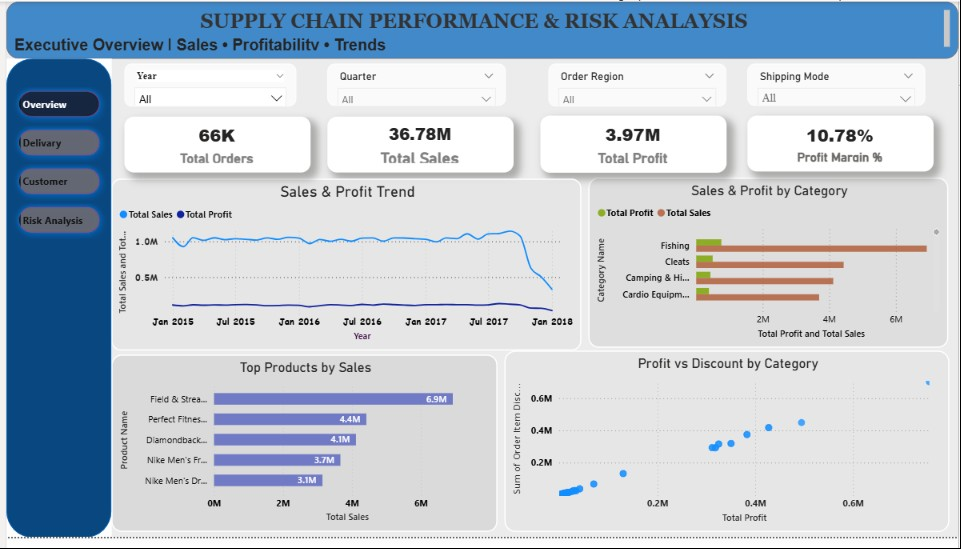

This screenshot's page, from the dashboard's own definition file:
{"tool":"powerbi","page":{"name":"Overview","canvas":[1280,720],"ordinal":0},"visuals":[{"type":"clusteredBarChart","title":"Sales & Profit by Category","fields":{"Category":["DataCoSupplyChainDataset (2).Category Name"],"Y":["DataCoSupplyChainDataset (2).Total Profit","DataCoSupplyChainDataset (2).Total Sales"]},"box":[782.6,237.2,484,229.1],"z":0},{"type":"clusteredBarChart","title":"Top Products by Sales","fields":{"Y":["DataCoSupplyChainDataset (2).Total Sales"],"Category":["DataCoSupplyChainDataset (2).Product Name"]},"box":[141.2,474.7,519.1,238],"z":1000},{"type":"card","fields":{"Values":["DataCoSupplyChainDataset (2).Total Sales"]},"box":[431.7,154.7,250.1,75.3],"z":2000},{"type":"card","fields":{"Values":["DataCoSupplyChainDataset (2).Total Profit"]},"box":[718.1,153.3,250.1,76.7],"z":3000},{"type":"card","fields":{"Values":["DataCoSupplyChainDataset (2).Profit Margin %"]},"box":[996.5,153.3,250.1,75.3],"z":4000},{"type":"lineChart","title":"Sales & Profit Trend","fields":{"Y":["DataCoSupplyChainDataset (2).Total Sales","DataCoSupplyChainDataset (2).Total Profit"],"Category":["DateTable.Date.Variation.Date Hierarchy.Year","DateTable.Date.Variation.Date Hierarchy.Month"]},"box":[141.2,238,632.1,231.3],"z":5000},{"type":"scatterChart","title":"Profit vs Discount by Category","fields":{"X":["DataCoSupplyChainDataset (2).Total Profit"],"Y":["Sum(DataCoSupplyChainDataset (2).Order Item Discount)"],"Category":["DataCoSupplyChainDataset (2).Category Name"]},"box":[669.5,469,598.6,244.1],"z":6000},{"type":"card","fields":{"Values":["DataCoSupplyChainDataset (2).Total Orders"]},"box":[158.7,154.7,250.1,75.3],"z":7000},{"type":"textbox","box":[0,0,1280.3,76.9],"z":8000},{"type":"shape","box":[0,76.7,141.2,644.2],"z":9000},{"type":"pageNavigator","box":[8.1,111.6,126.4,209.8],"z":10000},{"type":"slicer","fields":{"Values":["DateTable.year"]},"box":[158.7,83.4,231.3,57.8],"z":11000},{"type":"slicer","fields":{"Values":["DateTable.Quarter"]},"box":[431.7,83,240,57],"z":12000},{"type":"slicer","fields":{"Values":["DataCoSupplyChainDataset (2).Order Region"]},"box":[728.9,83.4,239.4,57.8],"z":13000},{"type":"slicer","fields":{"Values":["shipping.Shipping Mode"]},"box":[996.5,83.4,239.4,56.5],"z":14000}]}

Visuals, with their boxes in screenshot pixels (x1, y1, x2, y2), scaled from the page's 1280x720 canvas onto the 961x549 screenshot:
"Sales & Profit by Category" clusteredBarChart: [left=588, top=181, right=951, bottom=356]
"Top Products by Sales" clusteredBarChart: [left=106, top=362, right=496, bottom=543]
card - DataCoSupplyChainDataset (2).Total Sales: [left=324, top=118, right=512, bottom=175]
card - DataCoSupplyChainDataset (2).Total Profit: [left=539, top=117, right=727, bottom=175]
card - DataCoSupplyChainDataset (2).Profit Margin %: [left=748, top=117, right=936, bottom=174]
"Sales & Profit Trend" lineChart: [left=106, top=181, right=581, bottom=358]
"Profit vs Discount by Category" scatterChart: [left=503, top=358, right=952, bottom=544]
card - DataCoSupplyChainDataset (2).Total Orders: [left=119, top=118, right=307, bottom=175]
textbox: [left=0, top=0, right=960, bottom=59]
shape: [left=0, top=58, right=106, bottom=548]
pageNavigator: [left=6, top=85, right=101, bottom=245]
slicer - DateTable.year: [left=119, top=64, right=293, bottom=108]
slicer - DateTable.Quarter: [left=324, top=63, right=504, bottom=107]
slicer - DataCoSupplyChainDataset (2).Order Region: [left=547, top=64, right=727, bottom=108]
slicer - shipping.Shipping Mode: [left=748, top=64, right=928, bottom=107]
